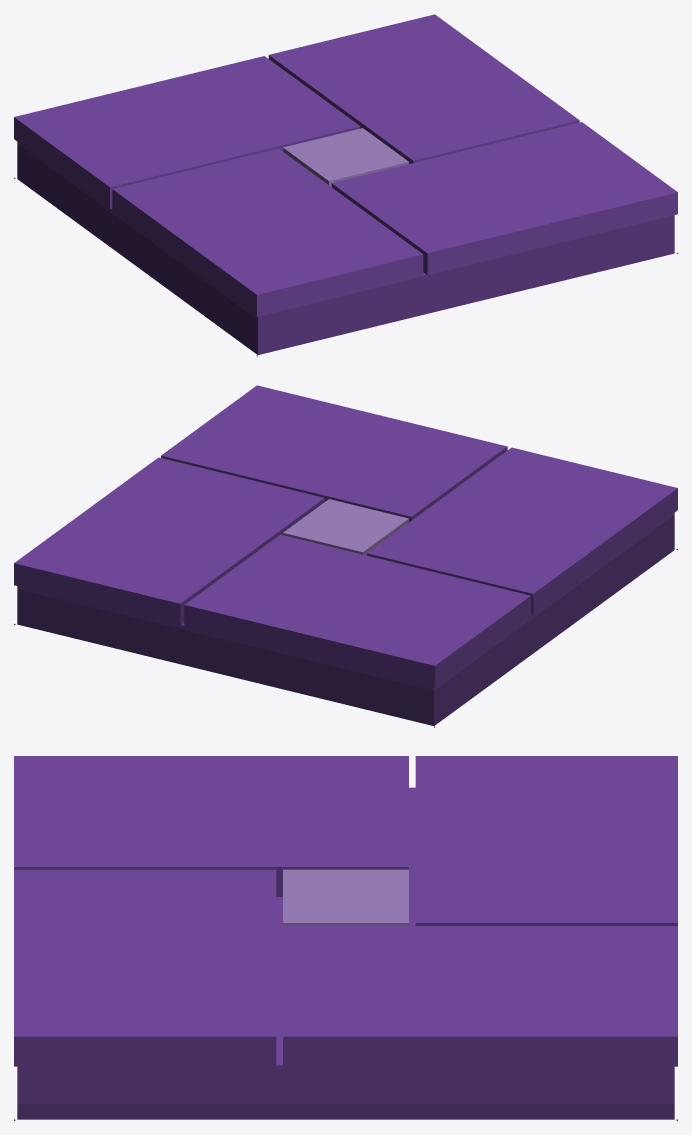
The model's file is floor_crystal_cross.glb.
3 views of the same model, one above another, from view 1: azimuth 30°, elevation 25°; view 2: azimuth 150°, elevation 25°; view 3: azimuth 270°, elevation 25° (orthographic). The views are drawn at different scales.
Bounding box in the file's own units: 1 × 0.14 × 1.
Materials: 1 (1 with a texture image).
